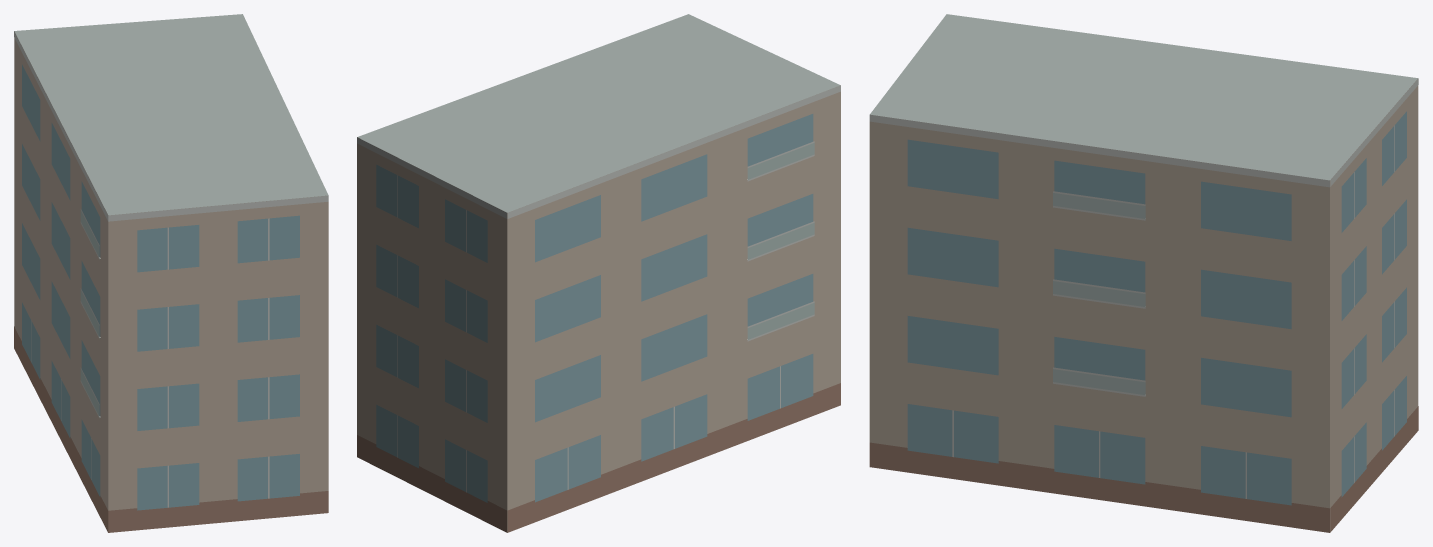
Rendered from survey-upis-32890079.glb.
3 views of the same model, side by side, from view 1: azimuth 30°, elevation 25°; view 2: azimuth 150°, elevation 25°; view 3: azimuth 270°, elevation 25° (orthographic). The views are drawn at different scales.
Visible parts, largest first — view 1: survey-upis-32890079.tmp; view 2: survey-upis-32890079.tmp; view 3: survey-upis-32890079.tmp.
Part boxes in pixels (box(x1,y1,x2,y2)): survey-upis-32890079.tmp: box(14, 14, 328, 532); survey-upis-32890079.tmp: box(357, 14, 840, 532); survey-upis-32890079.tmp: box(869, 14, 1418, 532).
Bounding box in the file's own units: 12.57 × 12.4 × 17.51.
